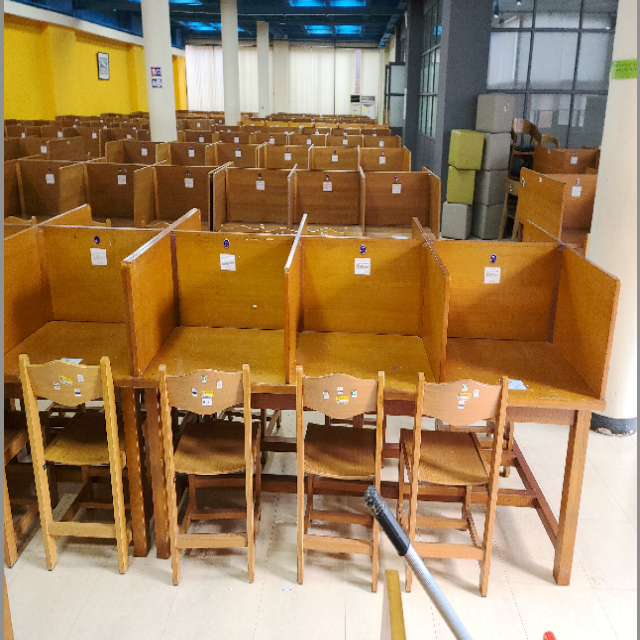empty: (447, 239, 603, 481), (142, 241, 287, 461), (295, 242, 434, 469)
